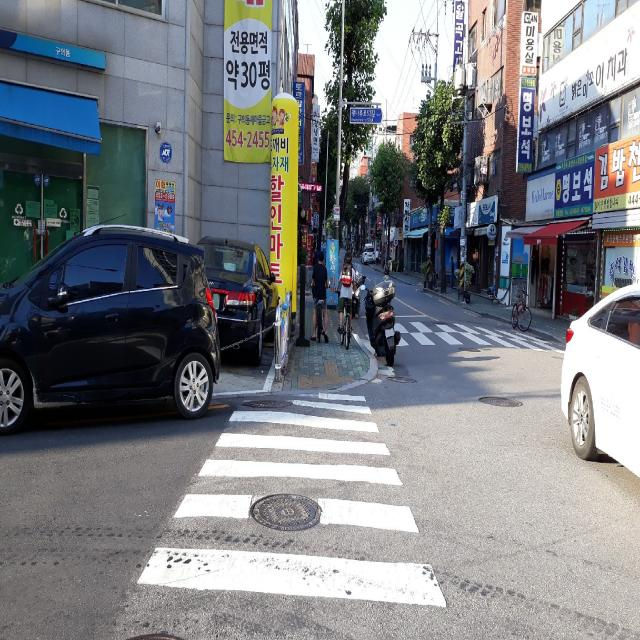횡단보도: (135, 392, 449, 612), (360, 315, 561, 361)
